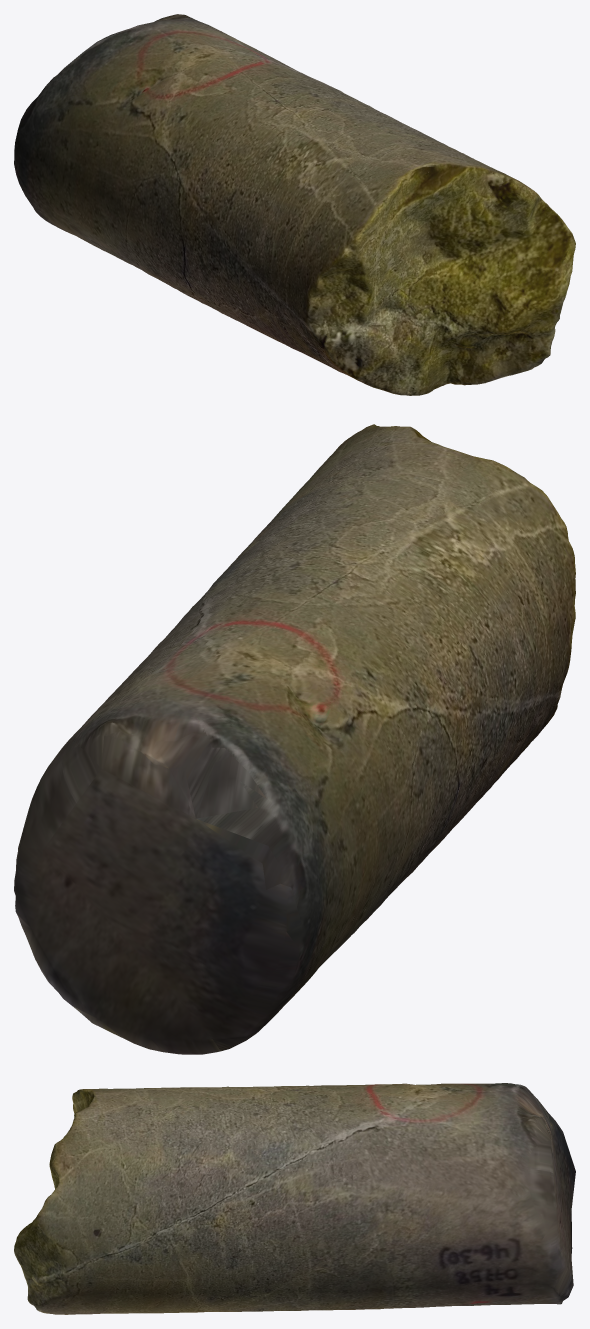
Rendered from PECLD07758 T4.glb.
3 views of the same model, one above another, from view 1: azimuth 30°, elevation 25°; view 2: azimuth 150°, elevation 25°; view 3: azimuth 270°, elevation 25° (orthographic). The views are drawn at different scales.
Visible parts, largest first — view 1: baked_mesh; view 2: baked_mesh; view 3: baked_mesh.
Part boxes in pixels (box(x1,y1,x2,y2)): baked_mesh: box(14, 14, 575, 395); baked_mesh: box(14, 424, 575, 1054); baked_mesh: box(14, 1083, 575, 1314).
Bounding box in the file's own units: 0.2984 × 0.251 × 0.5859.
1 material, 1 textured.
